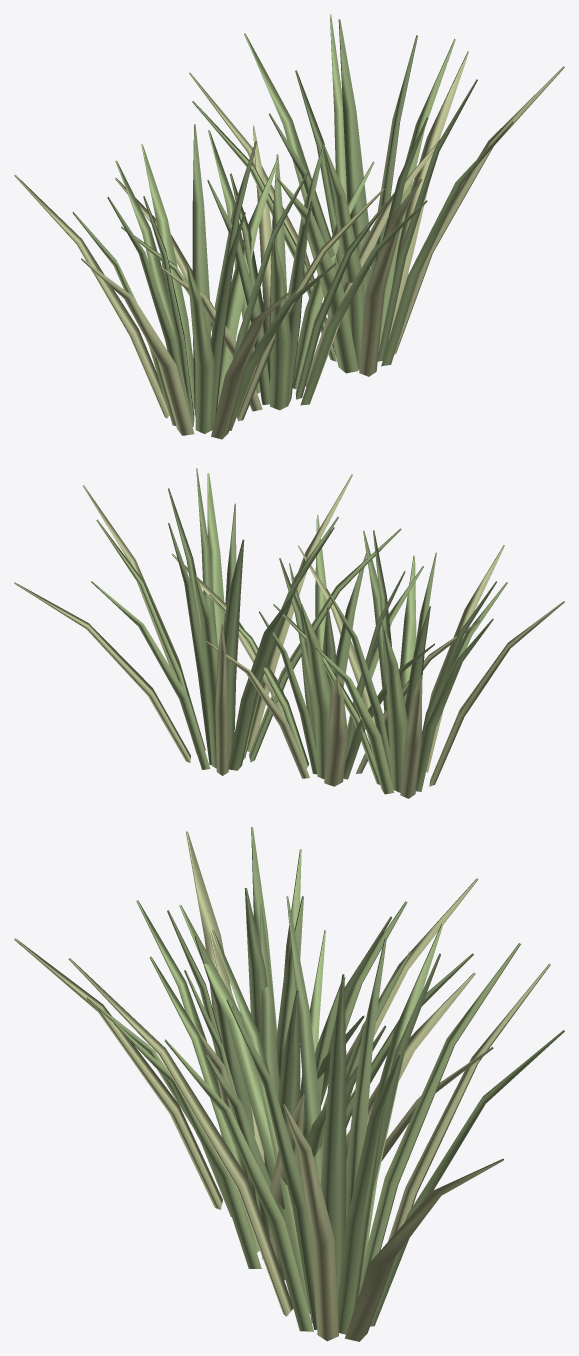
Rendered from campo_grass_9.glb.
3 views of the same model, one above another, from view 1: azimuth 30°, elevation 25°; view 2: azimuth 150°, elevation 25°; view 3: azimuth 270°, elevation 25° (orthographic). The views are drawn at different scales.
Parts seen in each view (by area): view 1: CampoGrassFresh, CampoGrassDeep, CampoGrassGold; view 2: CampoGrassFresh, CampoGrassDeep, CampoGrassGold; view 3: CampoGrassFresh, CampoGrassDeep, CampoGrassGold.
Part boxes in pixels (x1,y1,x2,y2): CampoGrassFresh: [72, 14, 513, 433]; CampoGrassDeep: [107, 19, 477, 426]; CampoGrassGold: [14, 51, 564, 439]; CampoGrassFresh: [91, 473, 507, 794]; CampoGrassDeep: [168, 468, 496, 779]; CampoGrassGold: [14, 474, 564, 798]; CampoGrassFresh: [86, 849, 564, 1334]; CampoGrassDeep: [167, 827, 440, 1329]; CampoGrassGold: [14, 831, 550, 1341].
Bounding box in the file's own units: 1.12 × 0.6295 × 0.819.
